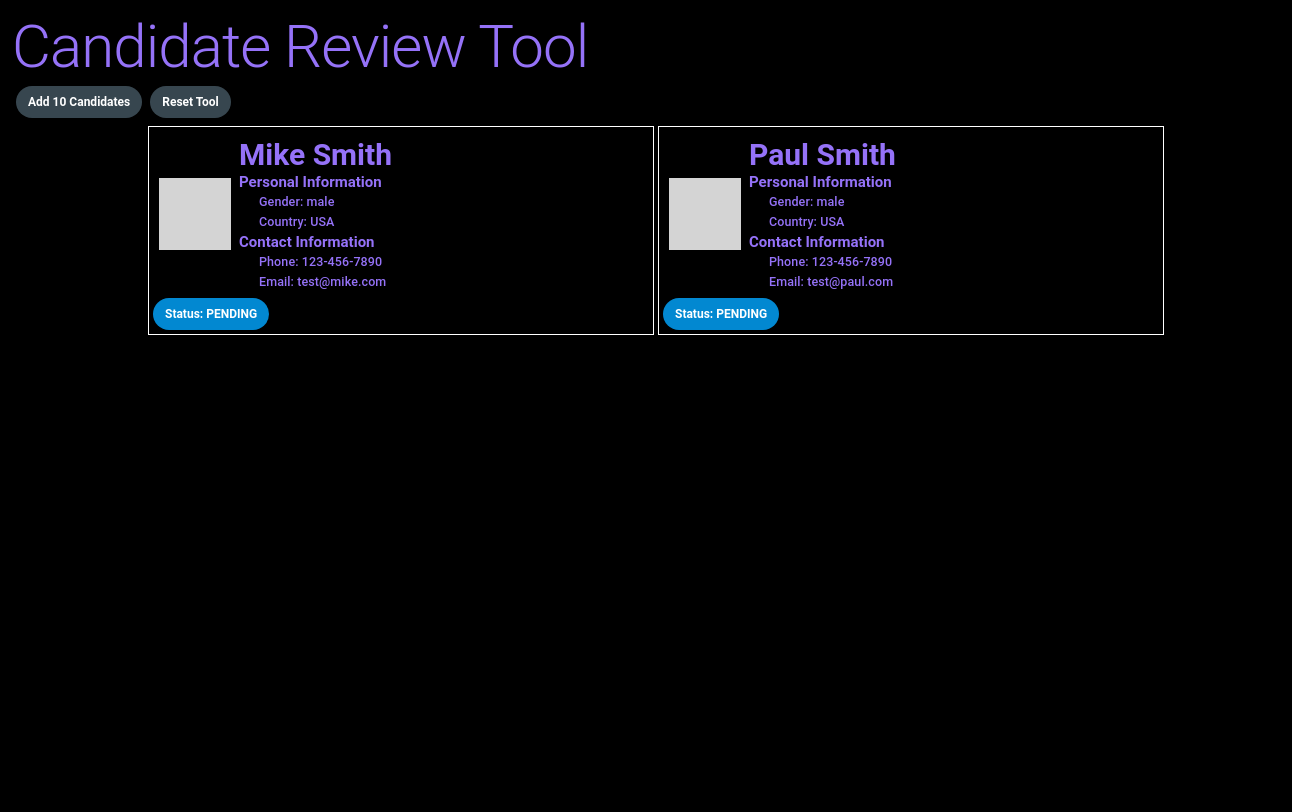
Test: add candidates  button
The image size is (1292, 812).
Expected: the number of elements with test id "candidate-overview" is 2, [148,126,654,335]; [658,126,1164,335]
Step 1. Click the button "Add 10 Candidates" → (79, 102), box [16,86,142,118]
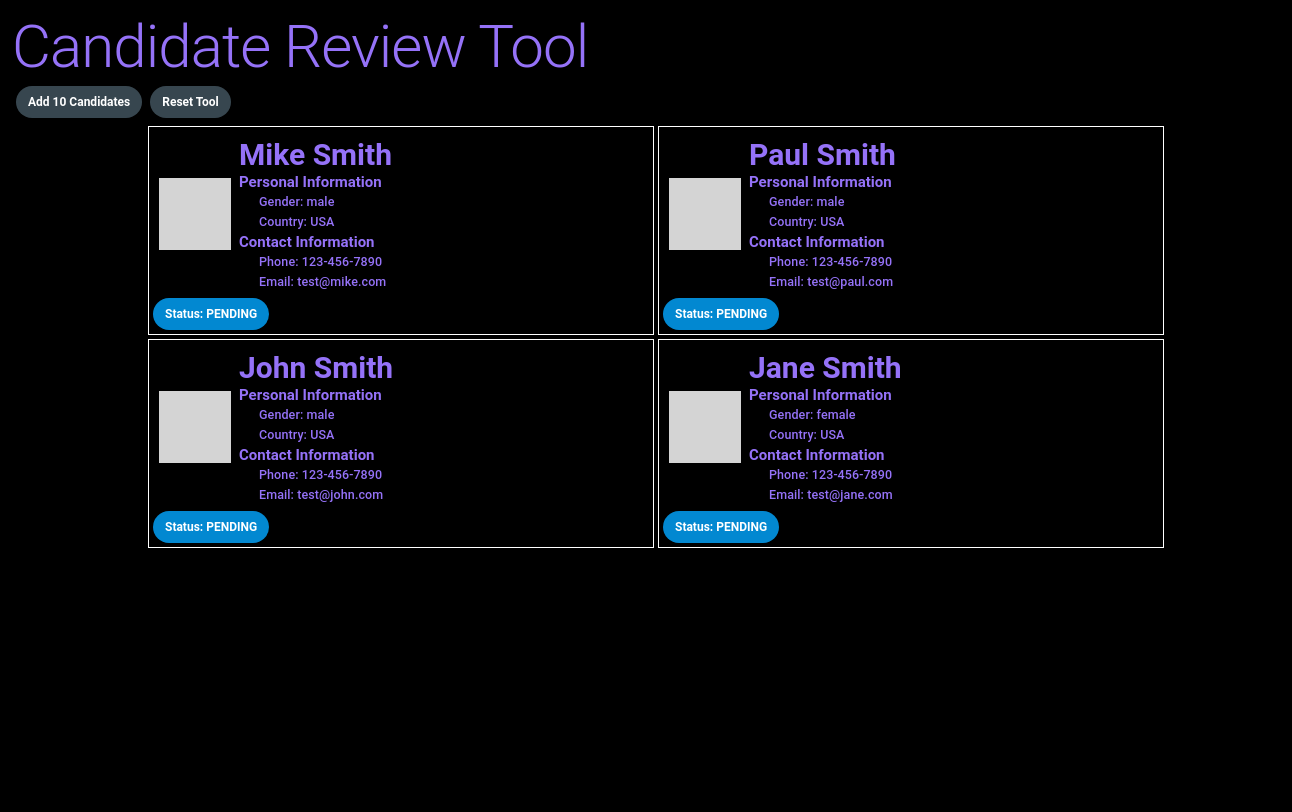
Expected: the number of elements with test id "candidate-overview" is 4, [148,126,654,335]; [658,126,1164,335]; [148,339,654,548]; [658,339,1164,548]
Step 2. Click the button "Add 10 Candidates" → (79, 102), box [16,86,142,118]
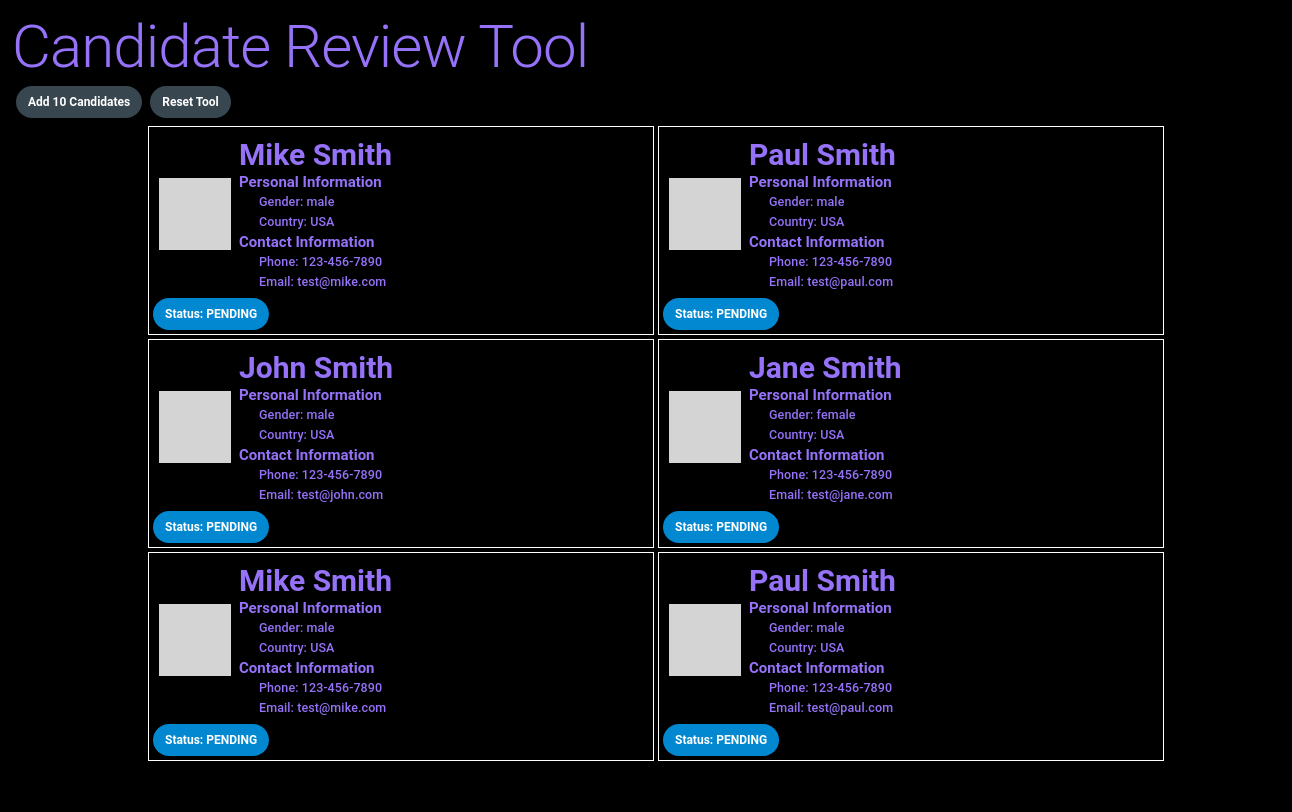
Expected: the number of elements with test id "candidate-overview" is 6, [148,126,654,335]; [658,126,1164,335]; [148,339,654,548]; [658,339,1164,548]; [148,552,654,761]; [658,552,1164,761]
